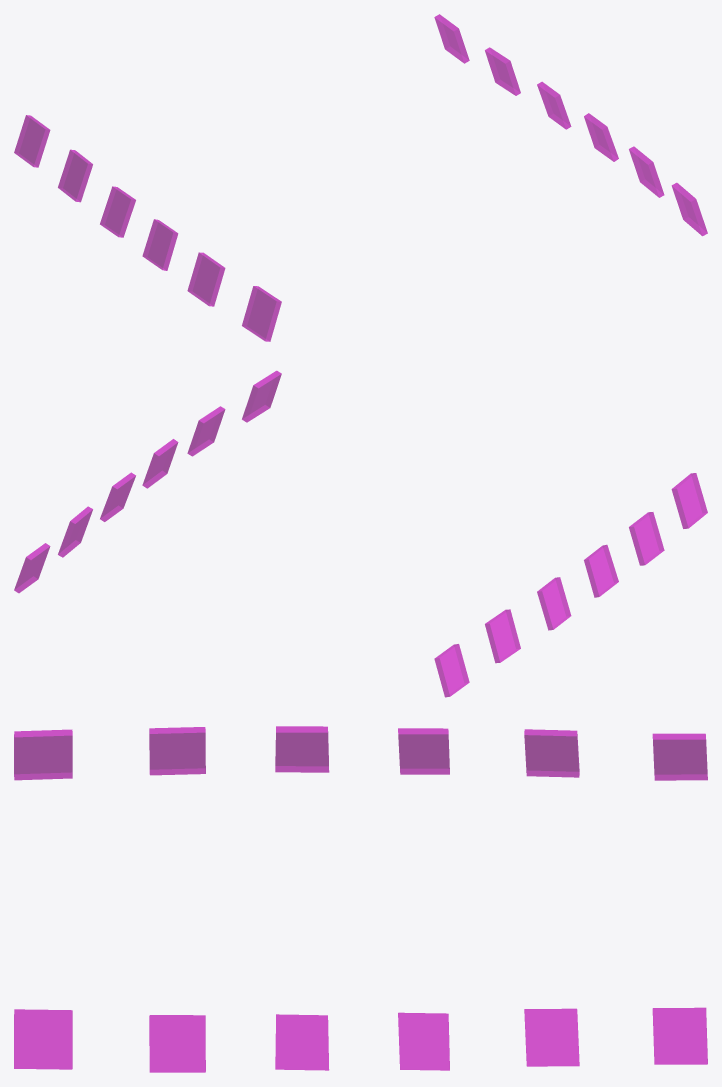
File: SM_Veh_Ship_L_Cannon_Hatch_Closed_01_Collision.fbx
3 views of the same model, one above another, from view 1: azimuth 30°, elevation 25°; view 2: azimuth 150°, elevation 25°; view 3: azimuth 270°, elevation 25° (orthographic). The views are drawn at different scales.
Parts seen in each view (by area): view 1: SM_Veh_Ship_L_Cannon_Hatch_Closed_01_Collision; view 2: SM_Veh_Ship_L_Cannon_Hatch_Closed_01_Collision; view 3: SM_Veh_Ship_L_Cannon_Hatch_Closed_01_Collision.
Boxes of the visible parts, box(x1,y1,x2,y2) form: SM_Veh_Ship_L_Cannon_Hatch_Closed_01_Collision: box(14, 14, 707, 341); SM_Veh_Ship_L_Cannon_Hatch_Closed_01_Collision: box(14, 370, 707, 697); SM_Veh_Ship_L_Cannon_Hatch_Closed_01_Collision: box(14, 726, 707, 1072).
Size of the model in its own units: 1317 by 110 by 1269.
